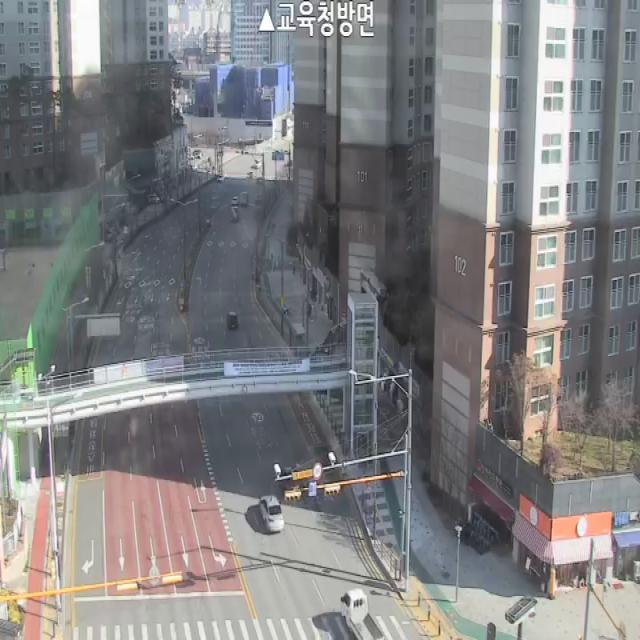Car: (260, 495, 284, 531), (228, 311, 240, 330), (217, 174, 224, 183), (232, 197, 238, 206)
Truck: (340, 588, 384, 640)
